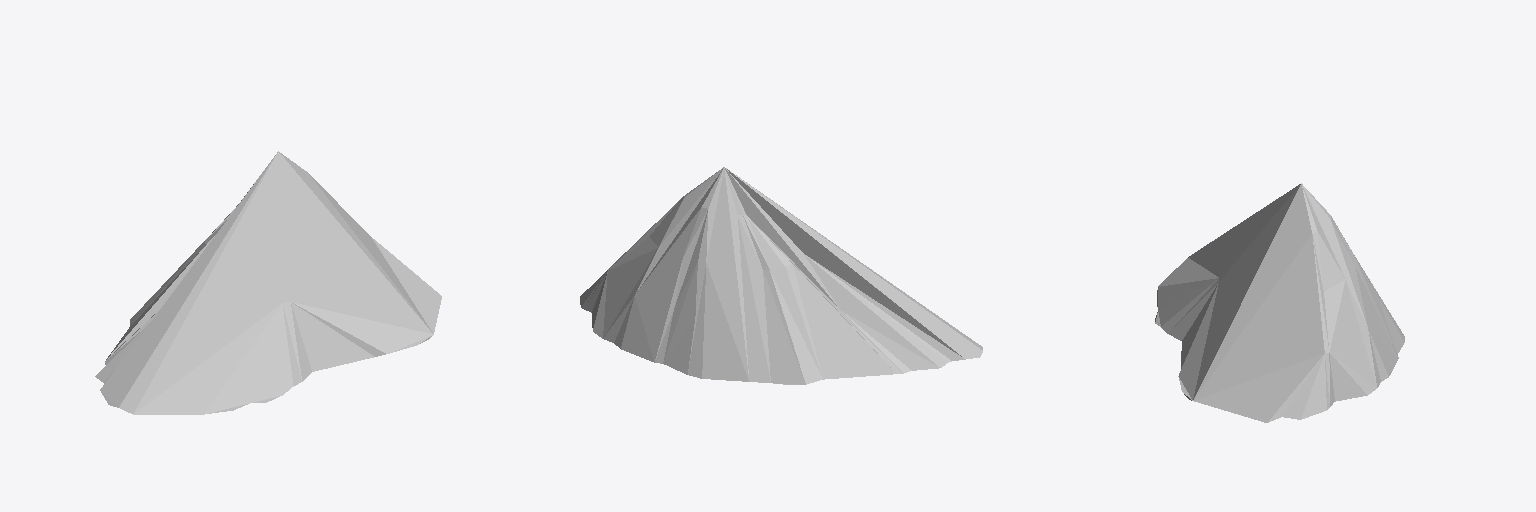
The model's file is Stalagmite4.obj.
3 renders of one model, left to right at view 1: azimuth 30°, elevation 25°; view 2: azimuth 150°, elevation 25°; view 3: azimuth 270°, elevation 25°, orthographic.
Visible parts, largest first — view 1: Cone; view 2: Cone; view 3: Cone.
Part boxes in pixels (left/top/right/bottom): Cone: left=95, top=151, right=441, bottom=414; Cone: left=580, top=167, right=982, bottom=384; Cone: left=1155, top=183, right=1404, bottom=422.
Size of the model in its own units: 5.84 by 2.76 by 3.51.